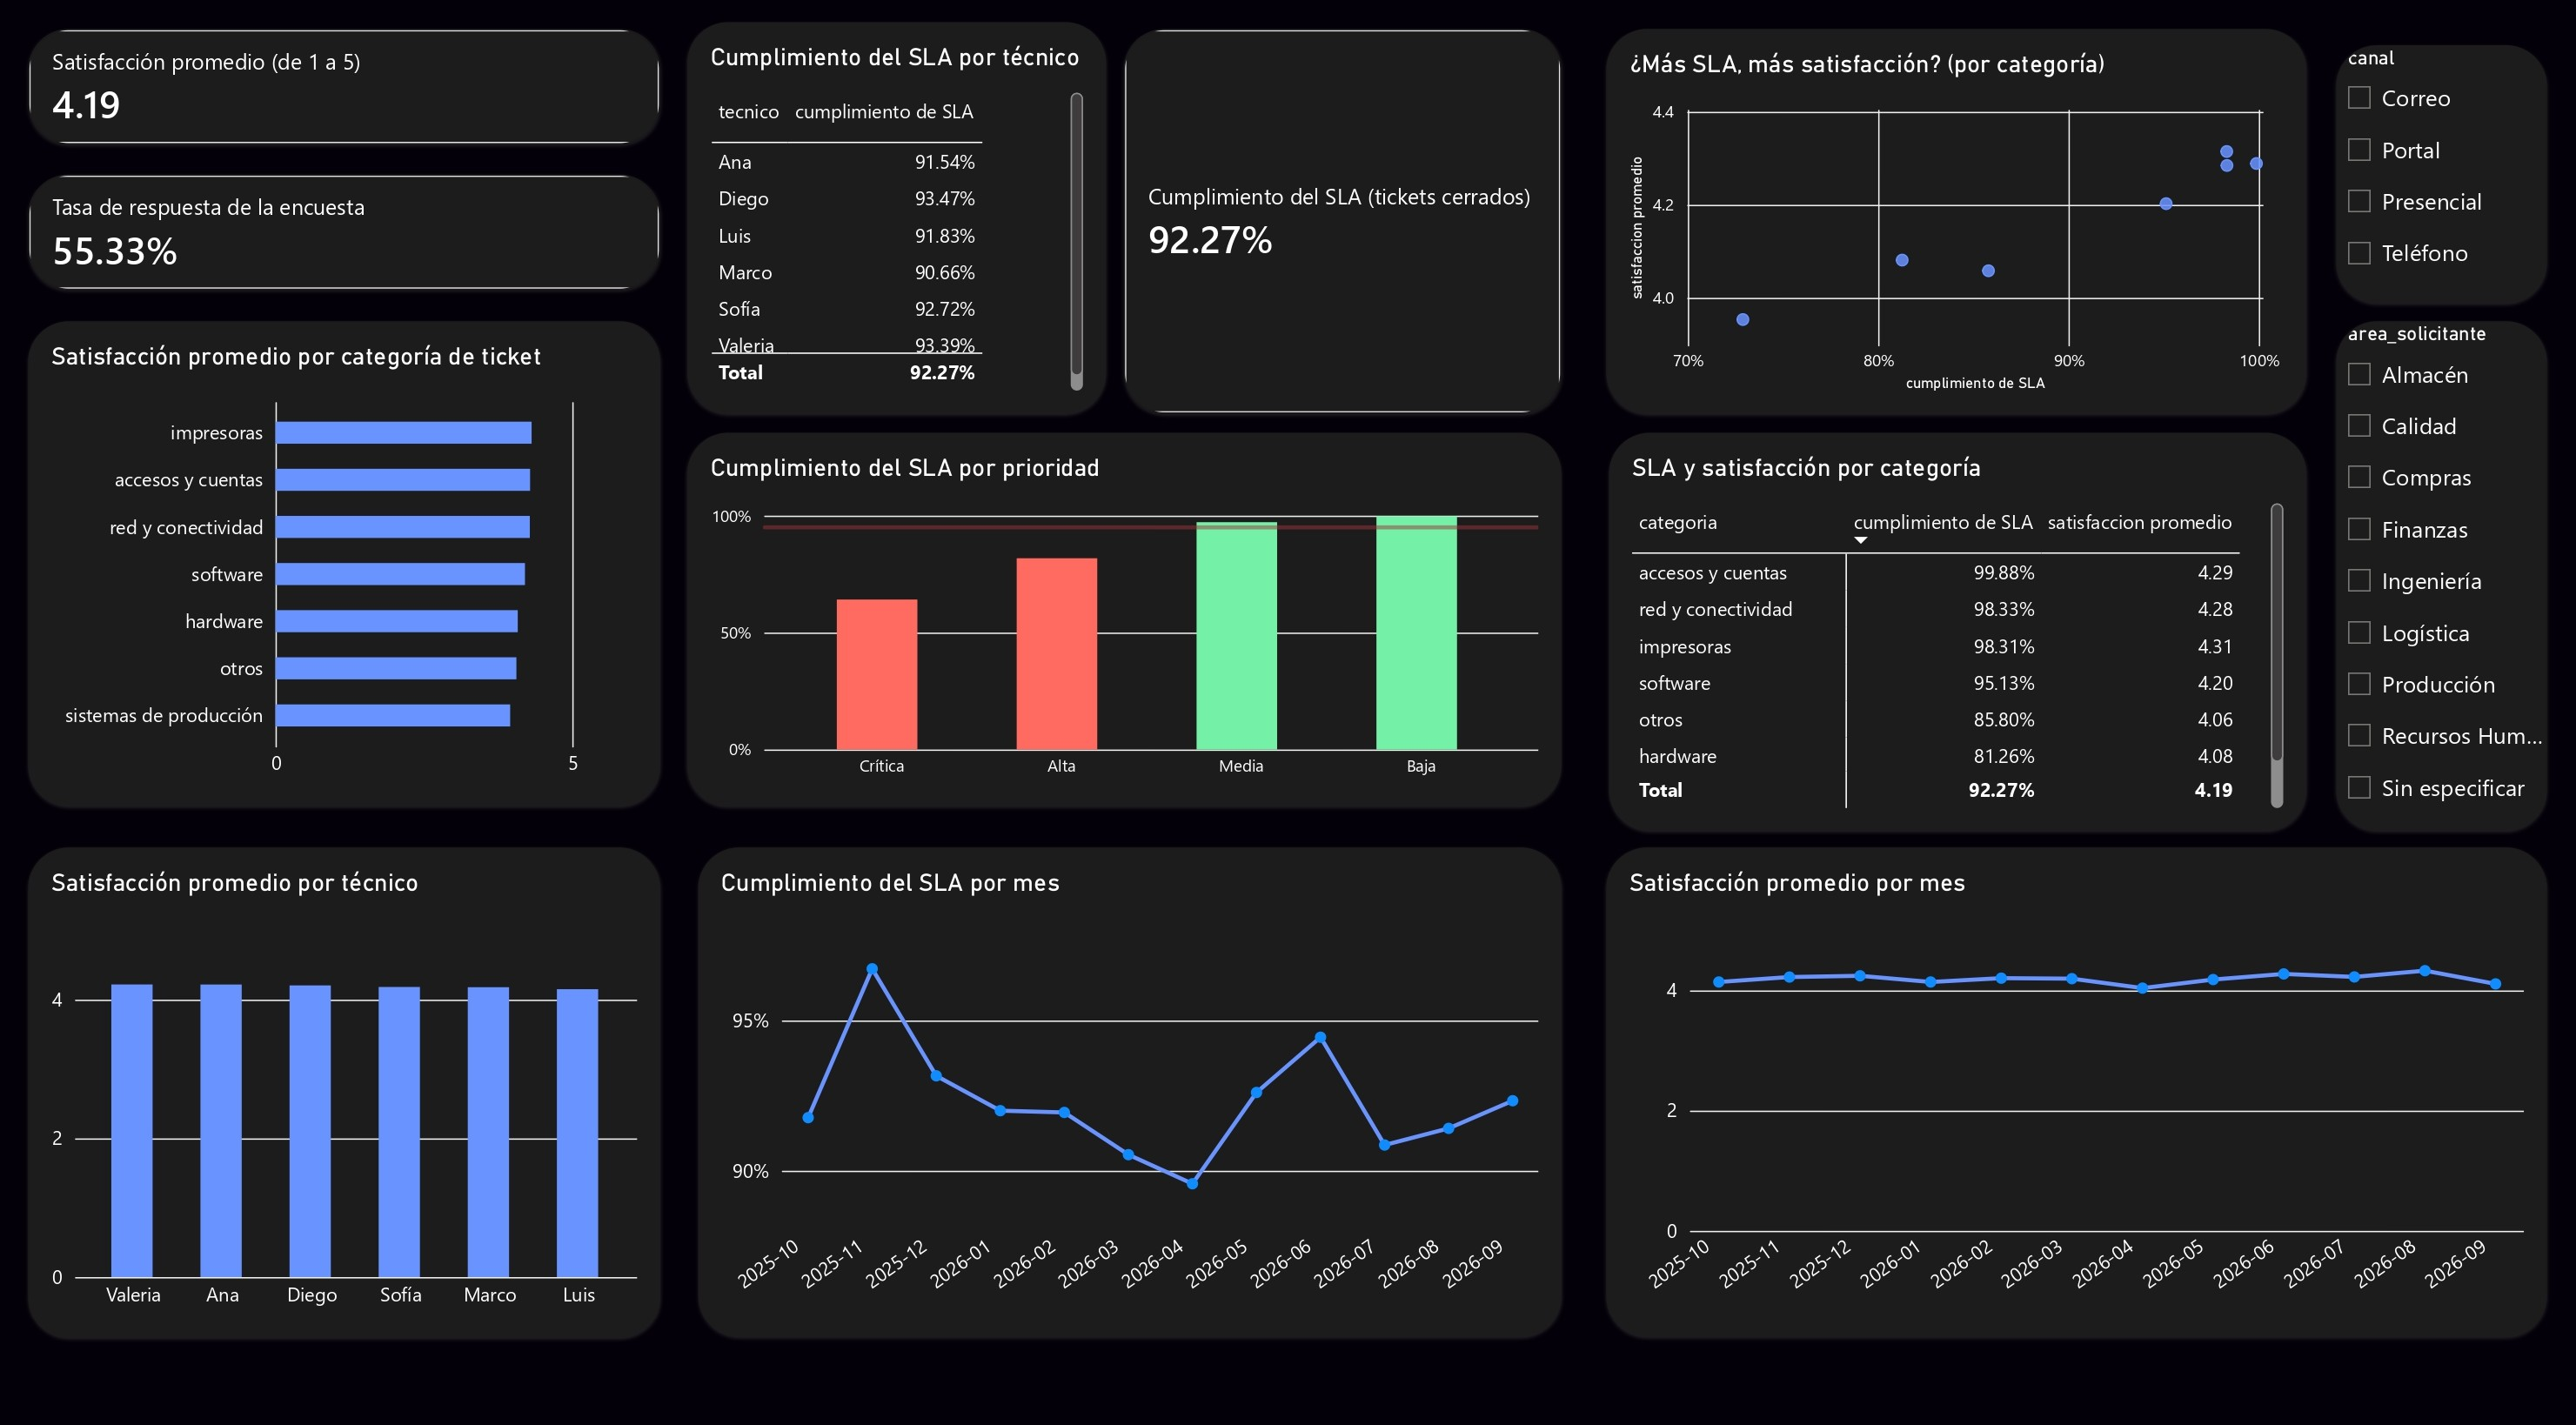

The page's visual inventory and layout, read from the dashboard file:
{"tool":"powerbi","page":{"name":"Satisfaccion y SLA","canvas":[1920,1080],"ordinal":2},"visuals":[{"type":"cardVisual","fields":{"Data":["planta_analytics fact_tickets_ti.cumplimiento de SLA"]},"box":[843.3,35,321.7,283.3],"z":0},{"type":"clusteredColumnChart","title":"Cumplimiento del SLA por prioridad","fields":{"Category":["planta_analytics fact_tickets_ti.prioridad"],"Y":["planta_analytics fact_tickets_ti.cumplimiento de SLA"]},"box":[521.7,331.7,643.3,275],"z":1000},{"type":"lineChart","title":"Cumplimiento del SLA por mes","fields":{"Category":["planta_analytics dim_fecha.anio_mes"],"Y":["planta_analytics fact_tickets_ti.cumplimiento de SLA"]},"box":[530,636.7,635,360],"z":2000},{"type":"tableEx","title":"Cumplimiento del SLA por técnico","fields":{"Values":["planta_analytics fact_tickets_ti.tecnico","planta_analytics fact_tickets_ti.cumplimiento de SLA"]},"box":[521.7,30,308.3,288.3],"z":3000},{"type":"slicer","fields":{"Values":["planta_analytics fact_tickets_ti.area_solicitante"]},"box":[1735,250,155,375],"z":4000},{"type":"slicer","fields":{"Values":["planta_analytics fact_tickets_ti.canal"]},"box":[1735,46.7,155,190],"z":5000},{"type":"clusteredBarChart","title":"Satisfacción promedio por categoría de ticket","fields":{"Category":["planta_analytics fact_tickets_ti.categoria"],"Y":["planta_analytics fact_tickets_ti.satisfaccion promedio"]},"box":[36.7,250,465,356.7],"z":6000},{"type":"cardVisual","fields":{"Data":["planta_analytics fact_tickets_ti.satisfaccion promedio"]},"box":[36.7,35,465,85],"z":7000},{"type":"cardVisual","fields":{"Data":["planta_analytics fact_tickets_ti.tasa de respuesta"]},"box":[36.7,141.7,465,85],"z":8000},{"type":"lineChart","title":"Satisfacción promedio por mes","fields":{"Category":["planta_analytics dim_fecha.anio_mes"],"Y":["planta_analytics fact_tickets_ti.satisfaccion promedio"]},"box":[1198.3,636.7,691.7,360],"z":9000},{"type":"columnChart","title":"Satisfacción promedio por técnico","fields":{"Category":["planta_analytics fact_tickets_ti.tecnico"],"Y":["planta_analytics fact_tickets_ti.satisfaccion promedio"]},"box":[36.7,636.7,465,361.7],"z":10000},{"type":"pivotTable","title":"SLA y satisfacción por categoría","fields":{"Rows":["planta_analytics fact_tickets_ti.categoria"],"Values":["planta_analytics fact_tickets_ti.cumplimiento de SLA","planta_analytics fact_tickets_ti.satisfaccion promedio"]},"box":[1200,331.7,513.3,293.3],"z":11000},{"type":"scatterChart","title":"¿Más SLA, más satisfacción? (por categoría)","fields":{"Category":["planta_analytics fact_tickets_ti.categoria"],"X":["planta_analytics fact_tickets_ti.cumplimiento de SLA"],"Y":["planta_analytics fact_tickets_ti.satisfaccion promedio"]},"box":[1198.3,35,515,283.3],"z":12000}]}

Visuals, with their boxes in screenshot pixels (x1, y1, x2, y2), scaled from the page's 1920x1080 canvas onto the 2576x1425 screenshot:
cardVisual - planta_analytics fact_tickets_ti.cumplimiento de SLA: [x1=1132, y1=46, x2=1563, y2=420]
"Cumplimiento del SLA por prioridad" clusteredColumnChart: [x1=700, y1=438, x2=1563, y2=800]
"Cumplimiento del SLA por mes" lineChart: [x1=711, y1=840, x2=1563, y2=1315]
"Cumplimiento del SLA por técnico" tableEx: [x1=700, y1=40, x2=1114, y2=420]
slicer - planta_analytics fact_tickets_ti.area_solicitante: [x1=2328, y1=330, x2=2536, y2=825]
slicer - planta_analytics fact_tickets_ti.canal: [x1=2328, y1=62, x2=2536, y2=312]
"Satisfacción promedio por categoría de ticket" clusteredBarChart: [x1=50, y1=330, x2=673, y2=800]
cardVisual - planta_analytics fact_tickets_ti.satisfaccion promedio: [x1=50, y1=46, x2=673, y2=158]
cardVisual - planta_analytics fact_tickets_ti.tasa de respuesta: [x1=50, y1=187, x2=673, y2=299]
"Satisfacción promedio por mes" lineChart: [x1=1608, y1=840, x2=2536, y2=1315]
"Satisfacción promedio por técnico" columnChart: [x1=50, y1=840, x2=673, y2=1317]
"SLA y satisfacción por categoría" pivotTable: [x1=1610, y1=438, x2=2298, y2=825]
"¿Más SLA, más satisfacción? (por categoría)" scatterChart: [x1=1608, y1=46, x2=2298, y2=420]
